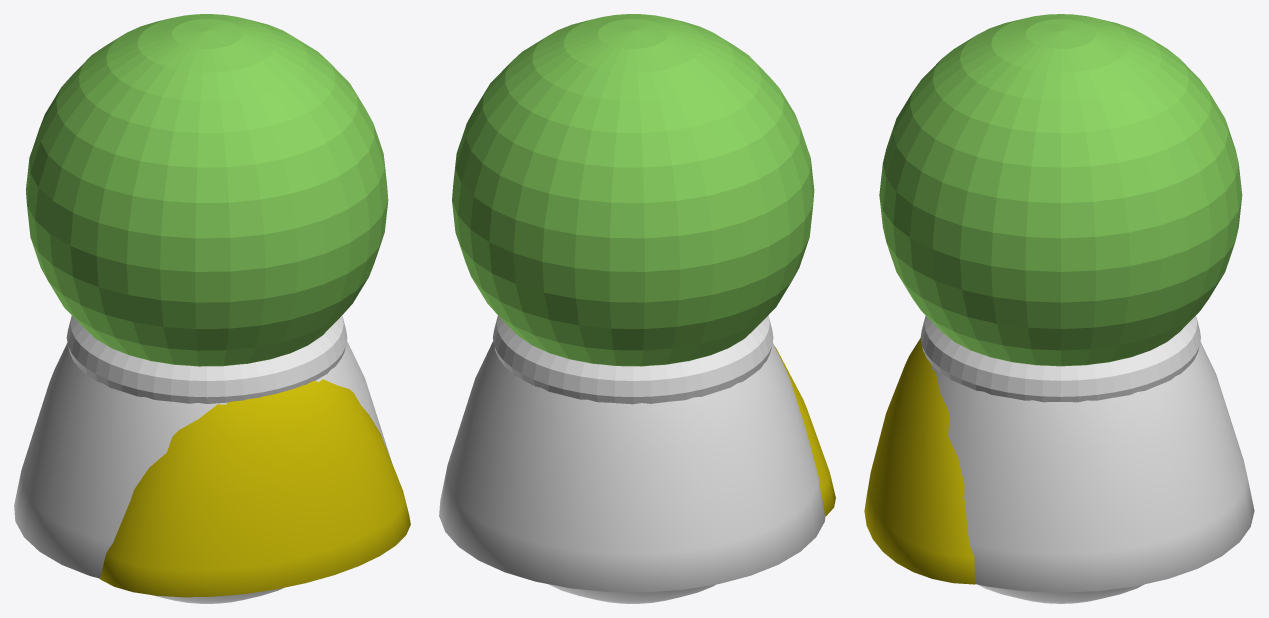
3 views of the same model, side by side, from view 1: azimuth 30°, elevation 25°; view 2: azimuth 150°, elevation 25°; view 3: azimuth 270°, elevation 25° (orthographic).
Parts seen in each view (by area): view 1: Head, Body.001, Body, Torus, Feet; view 2: Head, Body, Torus, Body.001, Feet; view 3: Head, Body, Body.001, Torus, Feet.
Part boxes in pixels (<box>): Head: <box>26,14,388,366</box>; Body.001: <box>100,379,410,597</box>; Body: <box>14,341,391,578</box>; Torus: <box>66,315,347,403</box>; Feet: <box>153,587,284,603</box>; Head: <box>452,14,814,366</box>; Body: <box>439,341,825,592</box>; Torus: <box>493,315,773,404</box>; Body.001: <box>775,347,835,516</box>; Feet: <box>548,584,715,603</box>; Head: <box>879,14,1242,366</box>; Body: <box>931,341,1254,592</box>; Body.001: <box>864,338,975,584</box>; Torus: <box>920,315,1200,402</box>; Feet: <box>978,584,1144,603</box>.
Bounding box in the file's own units: 121 × 191 × 122.
